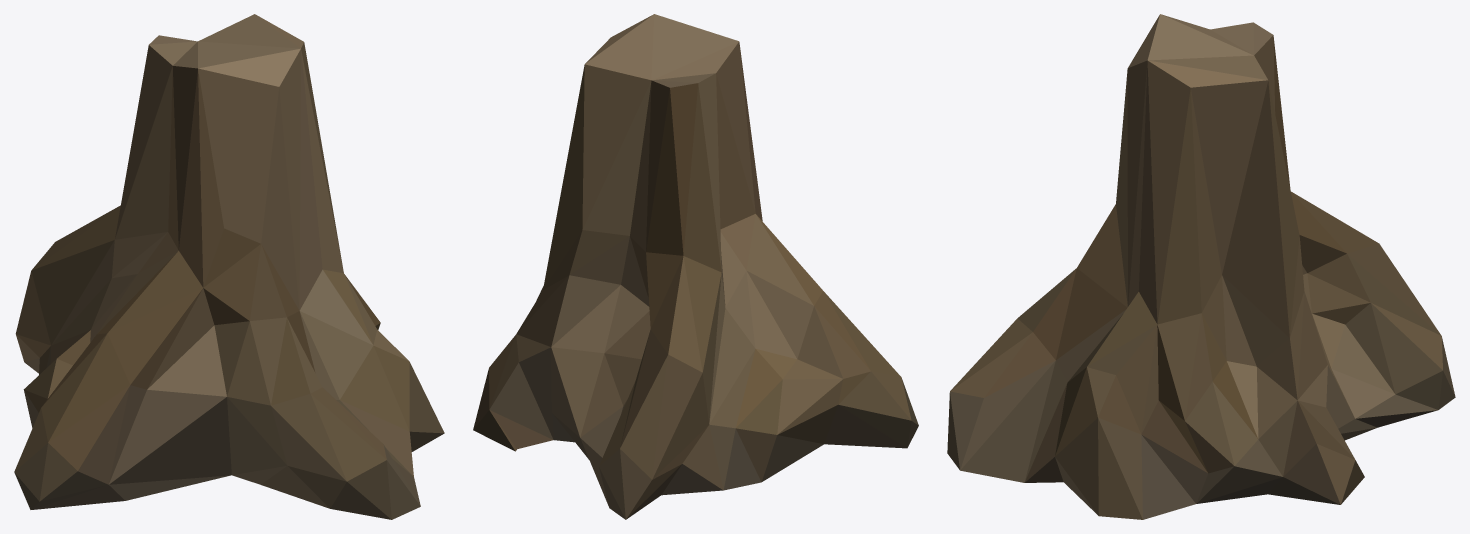
The model's file is Stump_B.fbx.
The picture shows the model from 3 angles, left to right: view 1: azimuth 30°, elevation 25°; view 2: azimuth 150°, elevation 25°; view 3: azimuth 270°, elevation 25°; orthographic projection. The views are drawn at different scales.
Visible parts, largest first — view 1: Stump_B; view 2: Stump_B; view 3: Stump_B.
Part boxes in pixels (bbox=[...]): Stump_B: bbox=[14, 14, 444, 519]; Stump_B: bbox=[473, 14, 918, 519]; Stump_B: bbox=[947, 14, 1455, 519].
Bounding box in the file's own units: 241 × 224 × 260.
